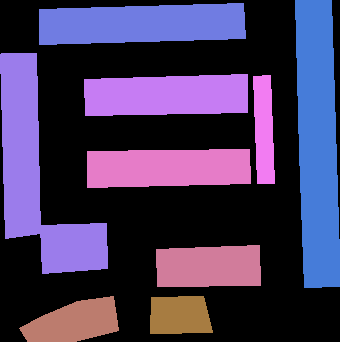parkingspot: (295, 0, 340, 287), (39, 3, 245, 44), (0, 53, 40, 238), (84, 74, 247, 115), (87, 149, 250, 187), (19, 296, 118, 342), (156, 245, 260, 286), (40, 223, 107, 273), (150, 296, 212, 333), (253, 75, 274, 183)
